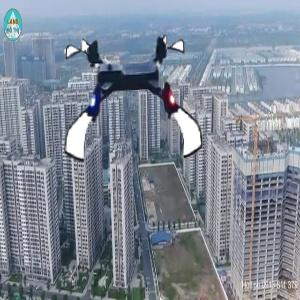drone: (63, 30, 206, 173)
